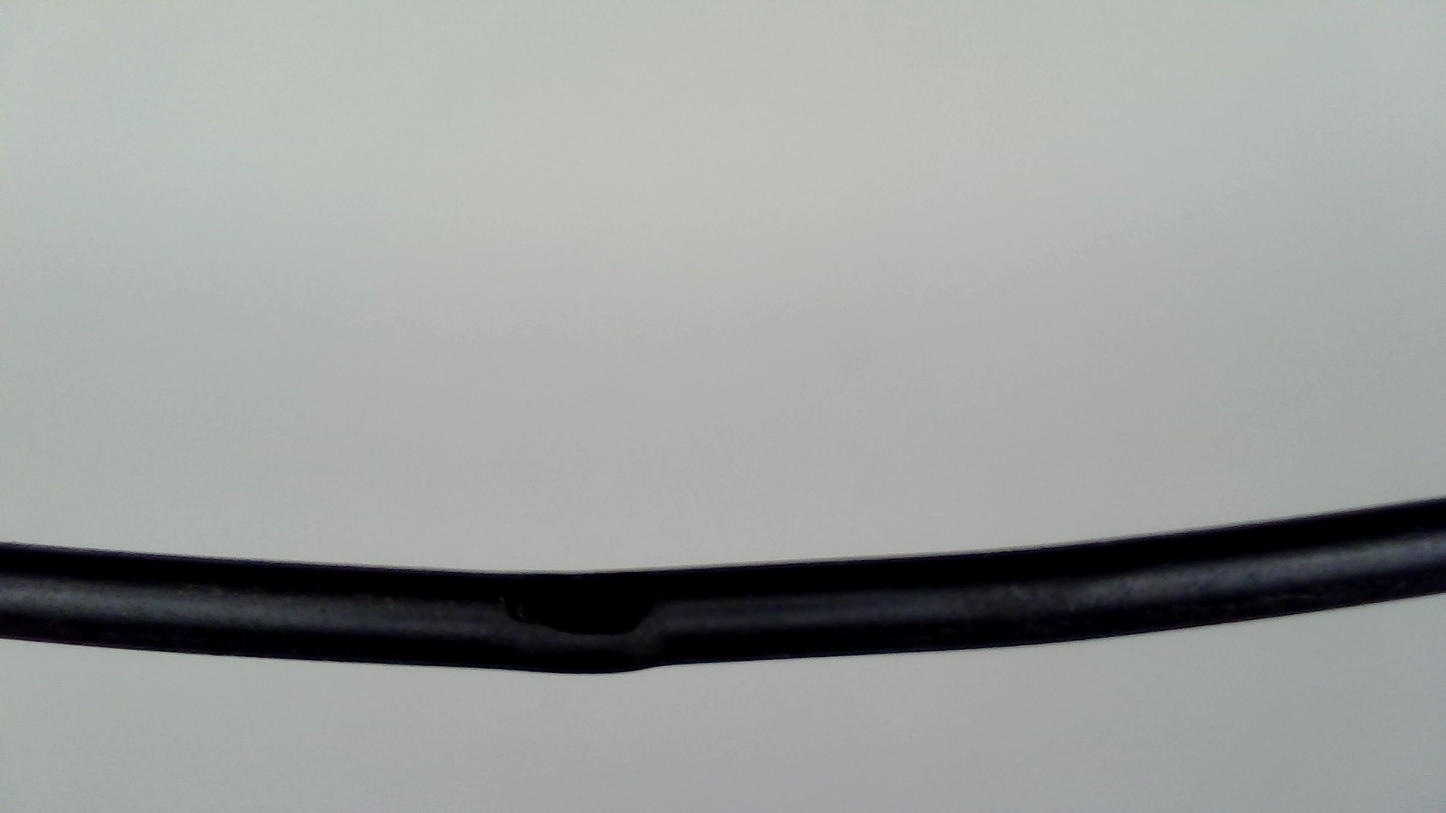defect: (488, 566, 705, 641), (599, 628, 884, 673)
